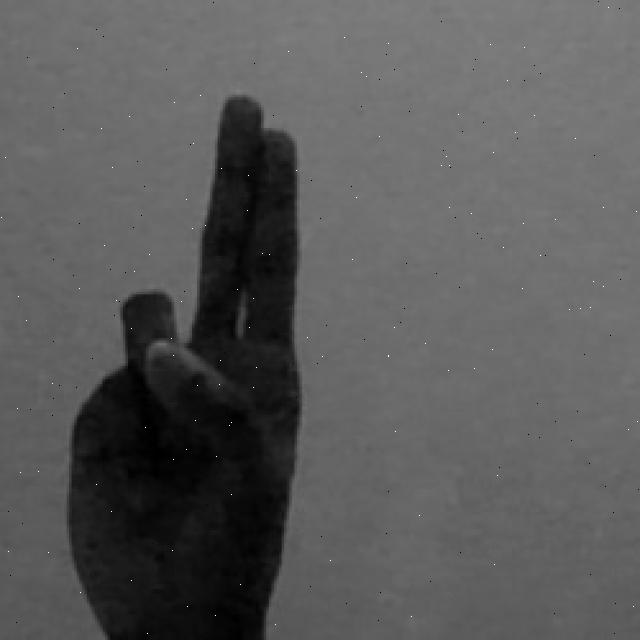U: (60, 84, 304, 640)
